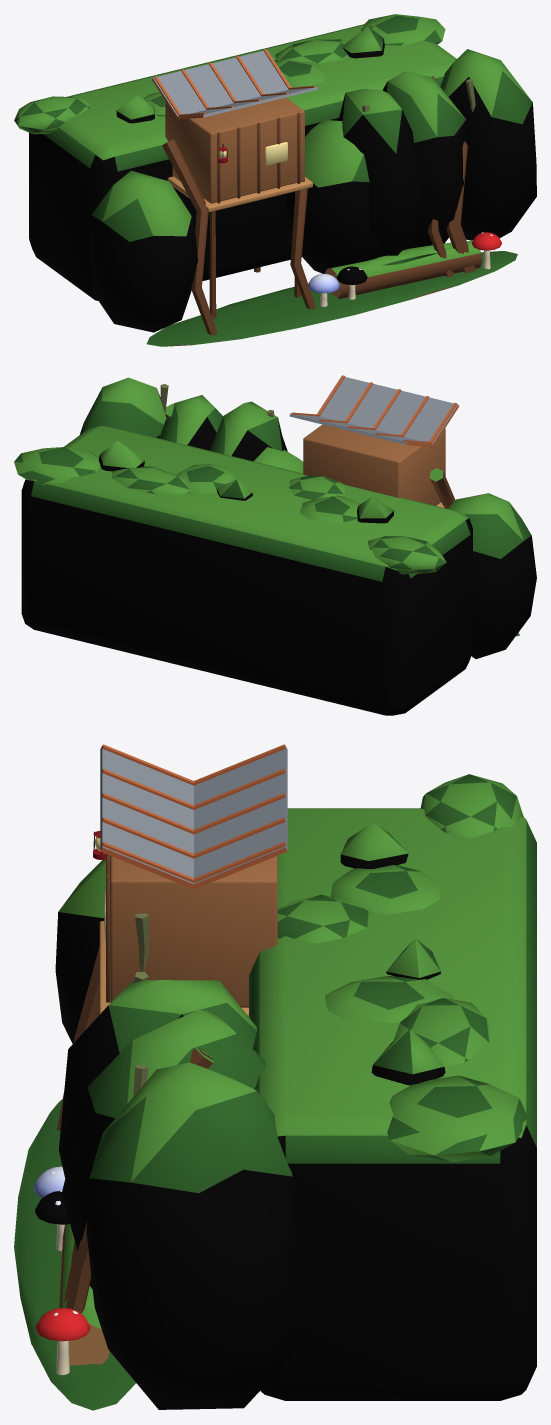
Rendered from SwampBankB.fbx.
3 views of the same model, one above another, from view 1: azimuth 30°, elevation 25°; view 2: azimuth 150°, elevation 25°; view 3: azimuth 270°, elevation 25° (orthographic). The views are drawn at different scales.
Visible parts, largest first — view 1: SwampBankB; view 2: SwampBankB; view 3: SwampBankB.
Part boxes in pixels (bbox=[...]): SwampBankB: bbox=[14, 14, 536, 346]; SwampBankB: bbox=[14, 375, 536, 715]; SwampBankB: bbox=[14, 744, 536, 1410].
Bounding box in the file's own units: 8.72 × 4.19 × 4.99.
2 materials, 2 textured.
